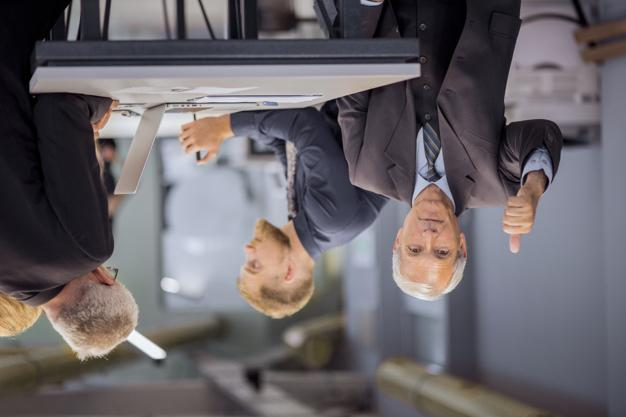thumbsdown: (502, 197, 535, 253)
